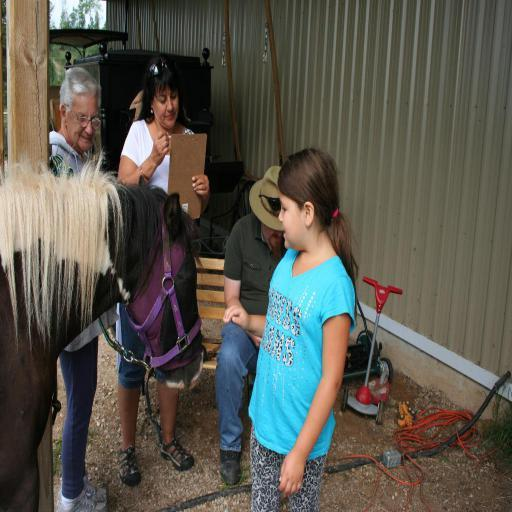Horse: (0, 143, 202, 511)
